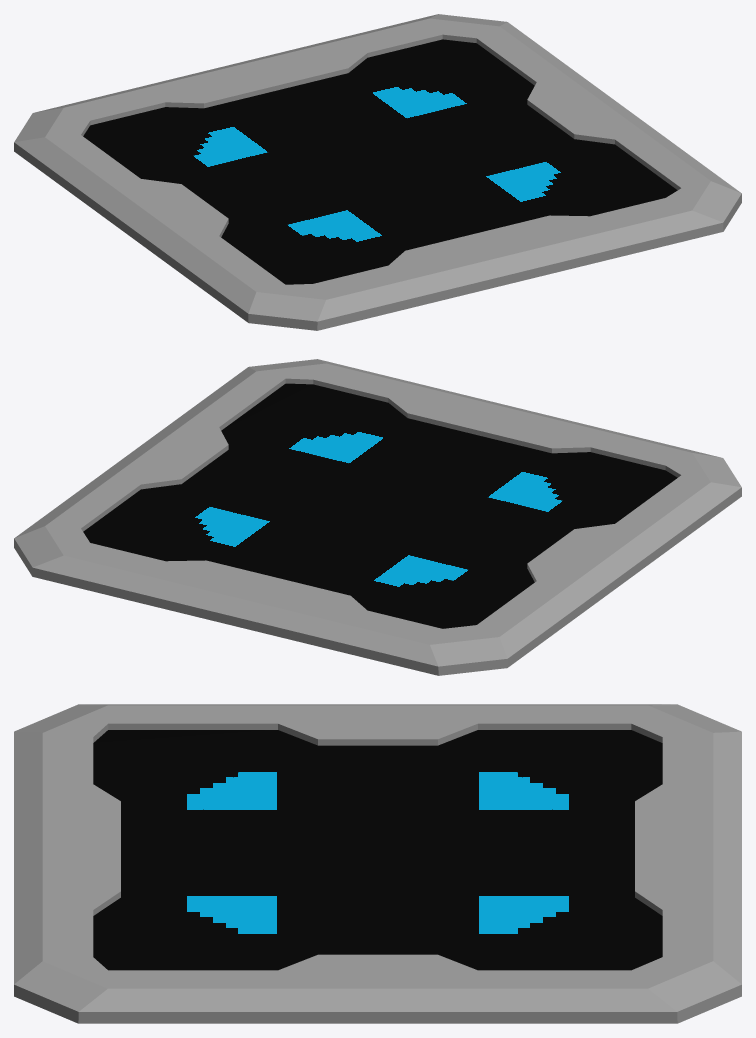
File: Pressure_plate_v2.fbx
3 renders of one model, top to bottom at view 1: azimuth 30°, elevation 25°; view 2: azimuth 150°, elevation 25°; view 3: azimuth 270°, elevation 25°, orthographic. The views are drawn at different scales.
Visible parts, largest first — view 1: PP; view 2: PP; view 3: PP.
Boxes of the visible parts, x1,y1,x2,y2 form: PP: (14,14,741,330); PP: (14,359,741,675); PP: (14,704,741,1023).
Bounding box in the file's own units: 84.2 × 2.92 × 84.2.
